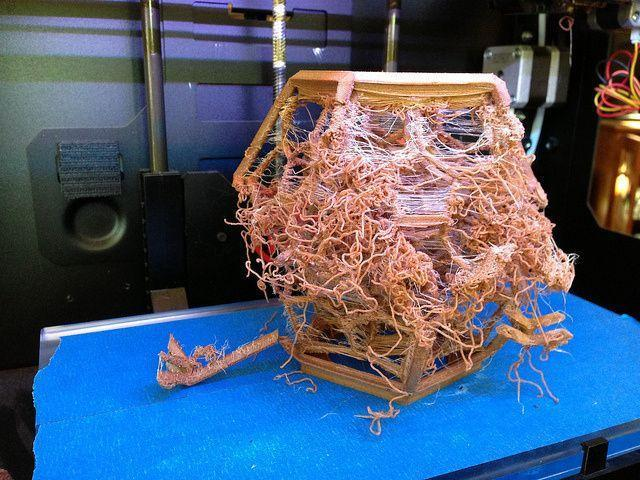Spaghetti: (178, 63, 577, 347)
Stringing or Oozing: (356, 96, 490, 221), (246, 87, 317, 201), (352, 324, 416, 364)
